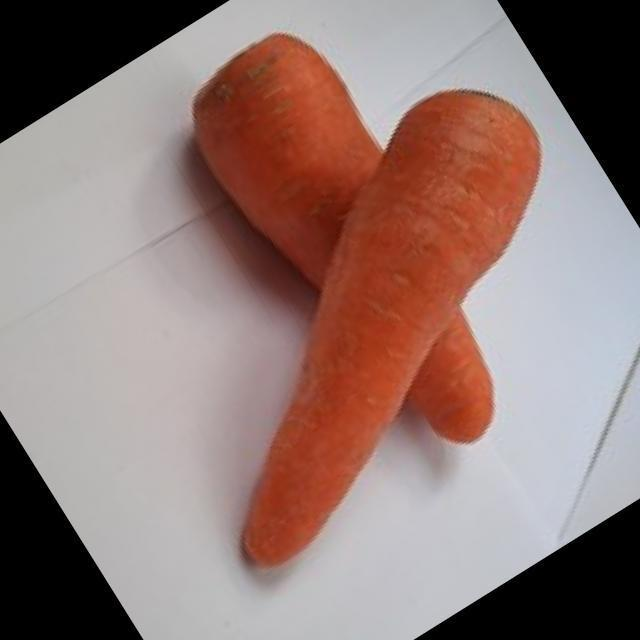carrot: (245, 91, 539, 564), (194, 34, 493, 443)
